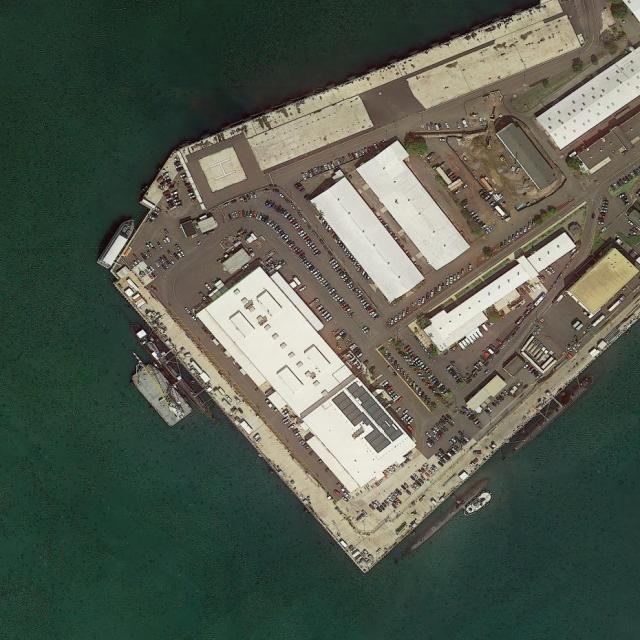Hovercraft: (461, 488, 494, 518)
Submarine: (129, 321, 213, 416), (511, 373, 597, 453), (408, 477, 489, 553)
